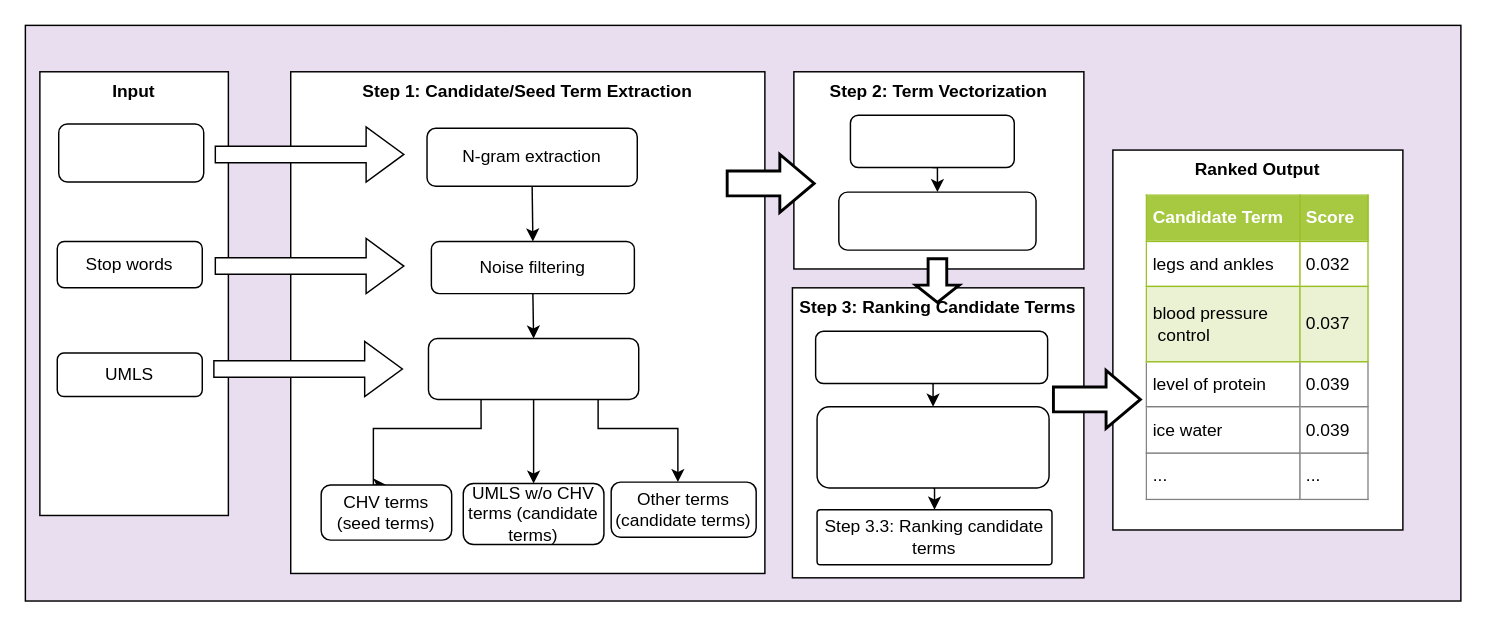
The diagram is 1486 pixels wide and 626 high, and some of its shapes have lost their labels. Each missing label, with the centre of its shape:
"Apache Spark platform" belongs at point 621,46.
"Feature extraction" belongs at point 931,140.
"Feature vector construction" belongs at point 936,220.
"Fuzzy term maching" belongs at point 533,368.
"Step 3.1: Clustering seed terms" belongs at point 931,357.
"Step 3.2: Calculating similarity of candidate terms to seed terms" belongs at point 932,446.
"Yahoo! Answers" belongs at point 130,152.
